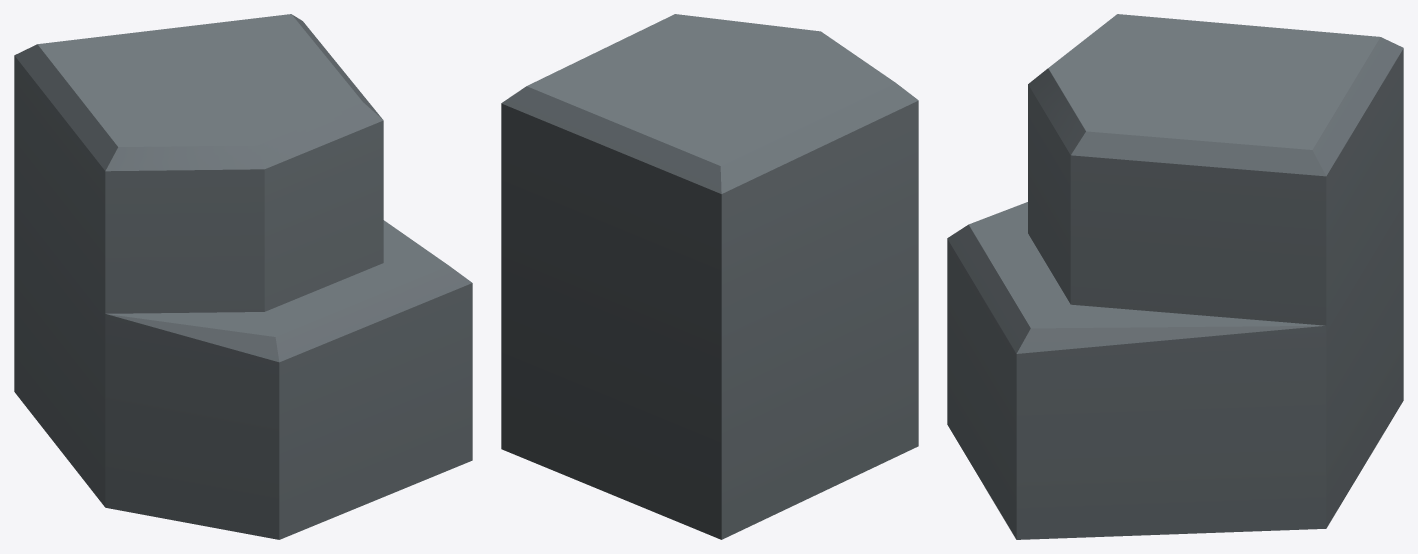
File: Rock_1_C_Color1.glb
3 renders of one model, left to right at view 1: azimuth 30°, elevation 25°; view 2: azimuth 150°, elevation 25°; view 3: azimuth 270°, elevation 25°, orthographic. The views are drawn at different scales.
Parts seen in each view (by area): view 1: Rock_1_C_Color1; view 2: Rock_1_C_Color1; view 3: Rock_1_C_Color1.
Boxes of the visible parts, x1=… form: Rock_1_C_Color1: x1=14, y1=14, x2=472, y2=539; Rock_1_C_Color1: x1=501, y1=14, x2=918, y2=539; Rock_1_C_Color1: x1=947, y1=14, x2=1403, y2=539.
Bounding box in the file's own units: 0.5188 × 0.5403 × 0.6051.
1 material, 1 textured.
